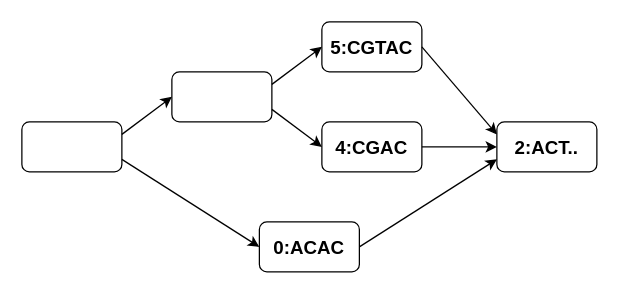
This 619x294 diagram has some shape labels left out. The shapes that lost their labels are listed below. From the top down, each one's centre as x and y in pixels, then its label:
At [221,96]: "1:ACG".
At [71,146]: "3:CAC".
